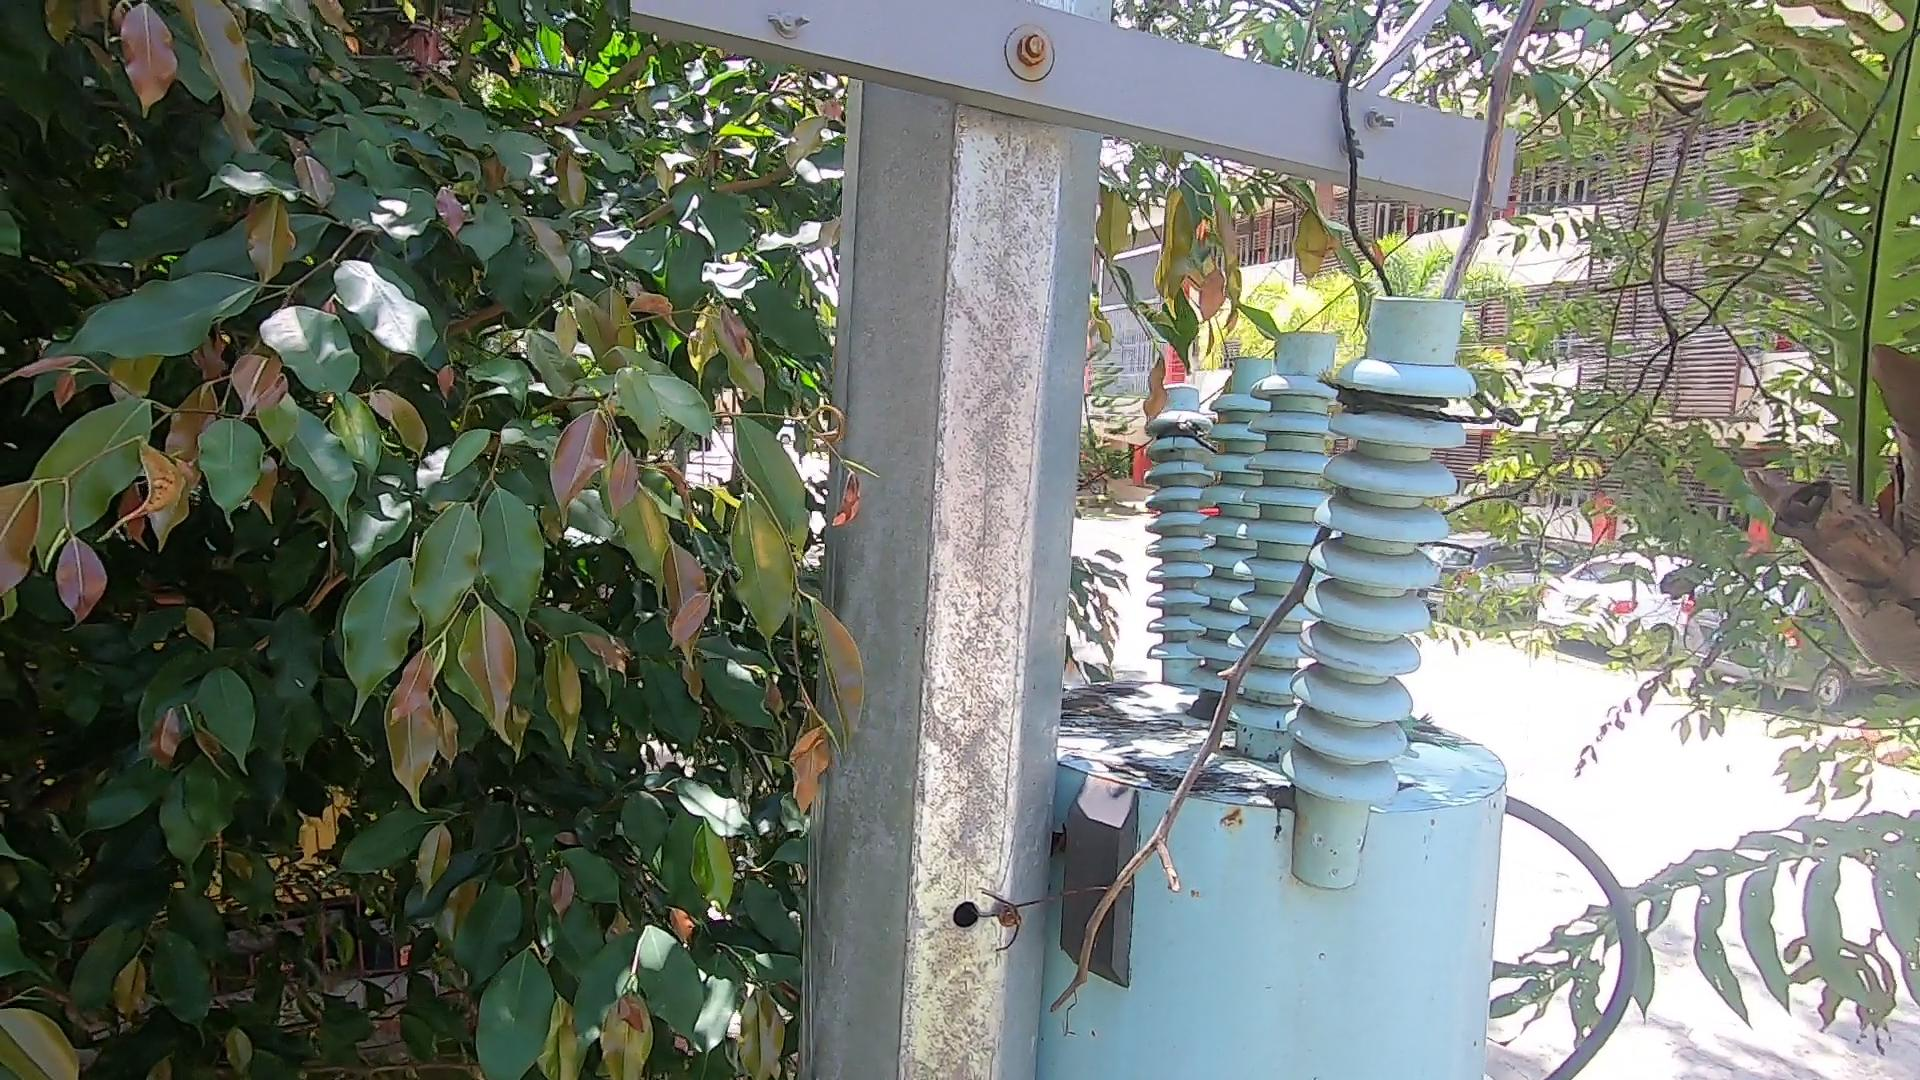branch with leaves: (1087, 196, 1385, 435)
leaf: (1245, 762, 1304, 828), (1189, 687, 1240, 742)
tree branch: (992, 18, 1741, 1011)
